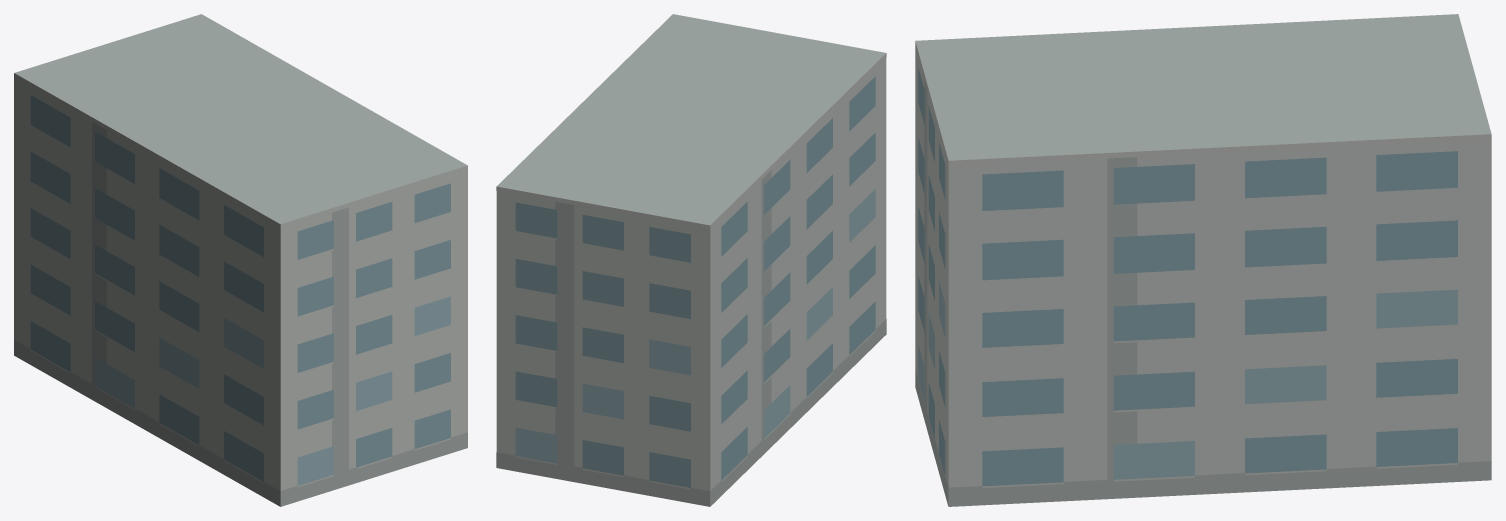
Rendered from residential-15e6596e-4e9e-4561-a0b5-e62fd161eea7.glb.
3 views of the same model, side by side, from view 1: azimuth 30°, elevation 25°; view 2: azimuth 150°, elevation 25°; view 3: azimuth 270°, elevation 25° (orthographic). The views are drawn at different scales.
Visible parts, largest first — view 1: residential-15e6596e-4e9e-4561-a0b5-e62fd161eea7.tmp; view 2: residential-15e6596e-4e9e-4561-a0b5-e62fd161eea7.tmp; view 3: residential-15e6596e-4e9e-4561-a0b5-e62fd161eea7.tmp.
Part boxes in pixels (x1,y1,x2,y2): residential-15e6596e-4e9e-4561-a0b5-e62fd161eea7.tmp: (14, 14, 467, 506); residential-15e6596e-4e9e-4561-a0b5-e62fd161eea7.tmp: (496, 14, 886, 506); residential-15e6596e-4e9e-4561-a0b5-e62fd161eea7.tmp: (915, 14, 1491, 506).
Bounding box in the file's own units: 13.88 × 15.25 × 23.02.
